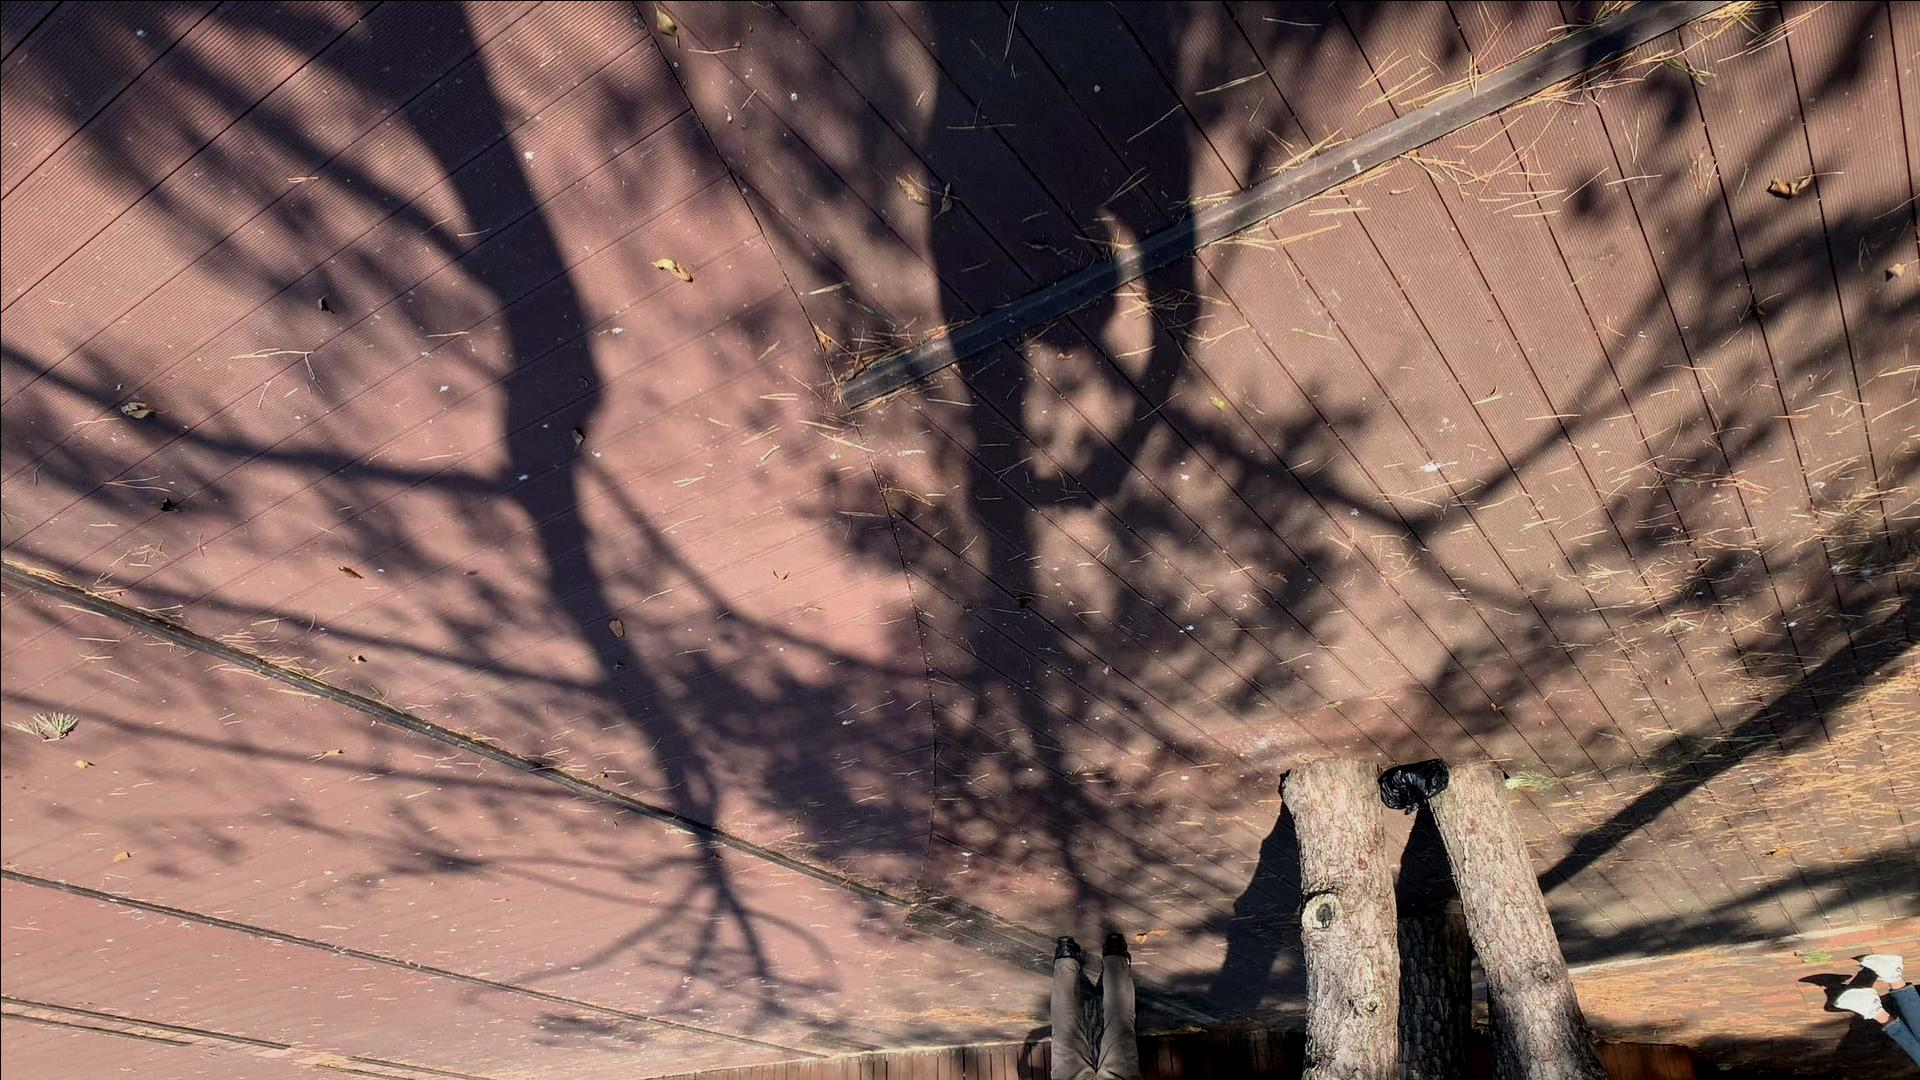white_bag: (1375, 760, 1455, 818)
